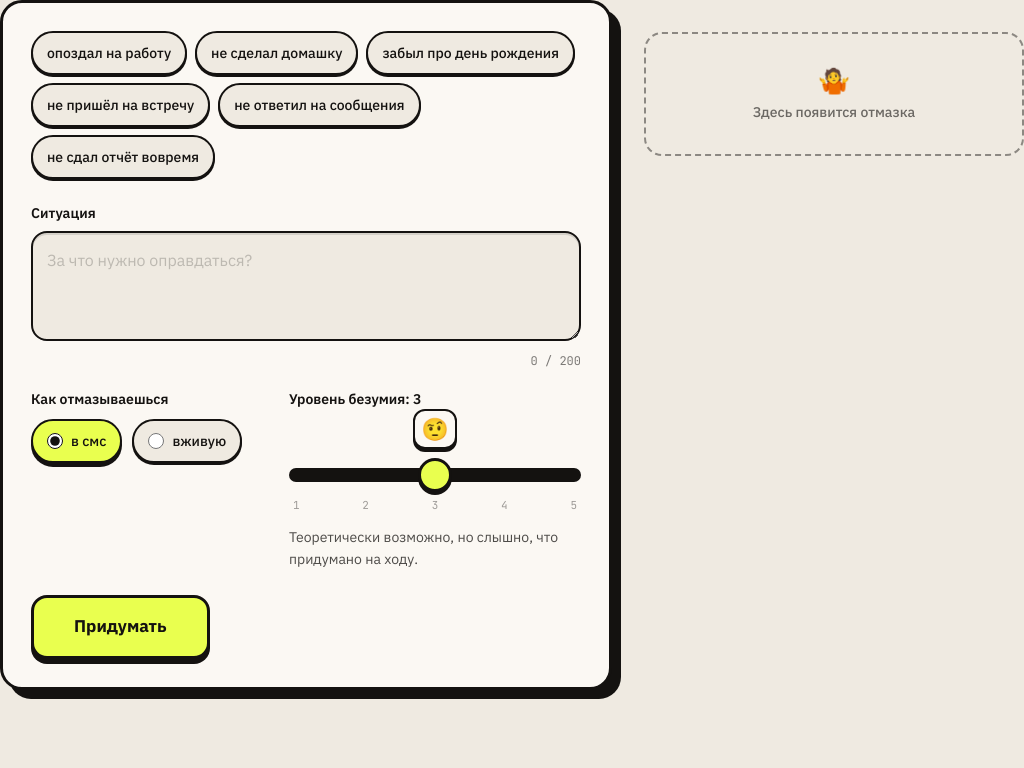
it: ExcuseForm › показывает ошибку сервера и оставляет кнопку активной
The width and height of the screenshot is (1024, 768).
In the text box labelled "Ситуация": (306, 286) [31, 231, 581, 341], type "проспал"
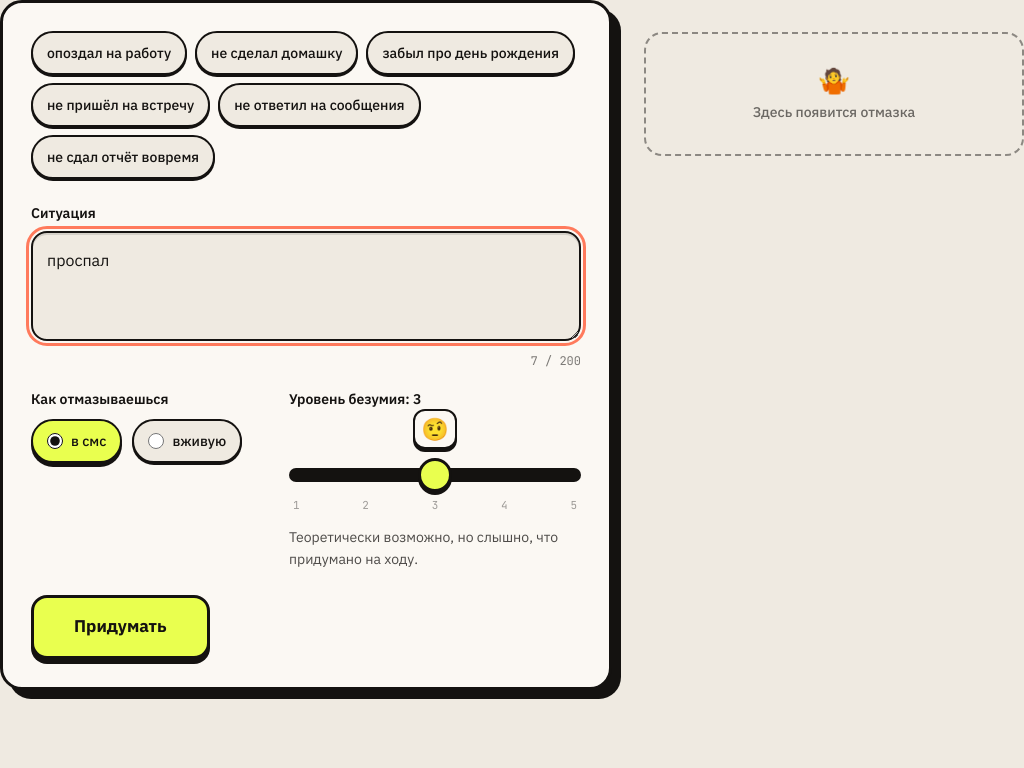
Click the button "Придумать": (120, 627) [31, 595, 210, 658]
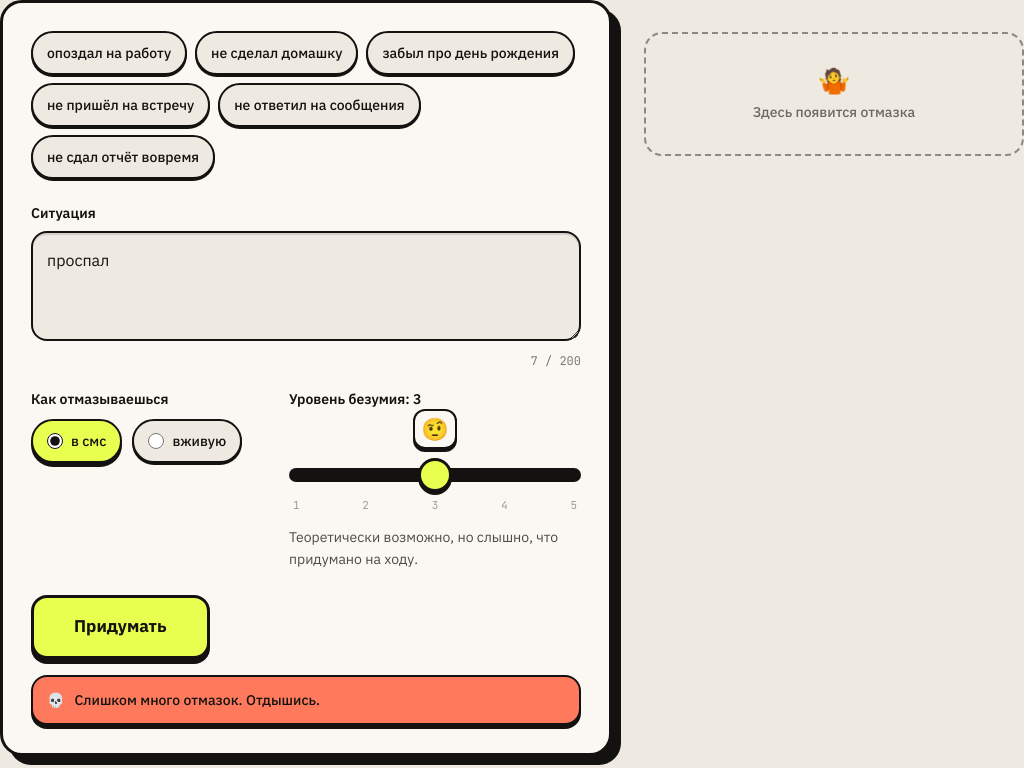
Expected: the text "💀 Слишком много отмазок. Отдышись." is shown, [31, 674, 581, 725]
